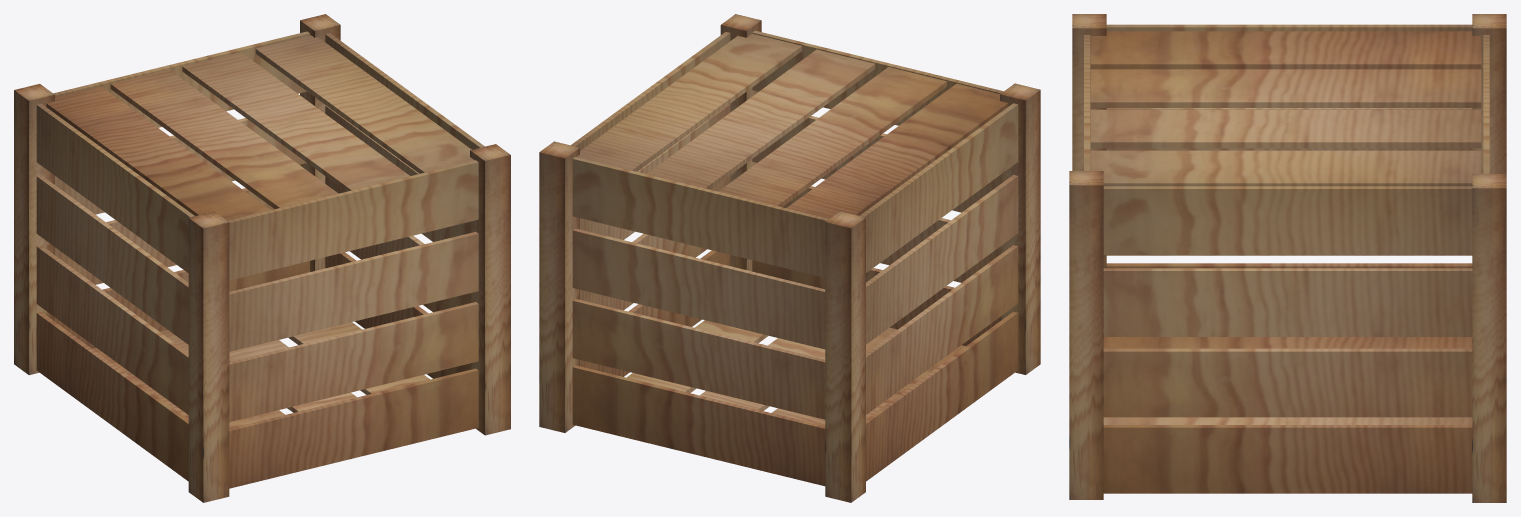
File: wooden_box.obj
The picture shows the model from 3 angles, left to right: view 1: azimuth 30°, elevation 25°; view 2: azimuth 150°, elevation 25°; view 3: azimuth 270°, elevation 25°; orthographic projection. The views are drawn at different scales.
Visible parts, largest first — view 1: Cube, Cube.004_Cube.007, Cube.001_Cube.004, Cube.007_Cube.010, Cube.006_Cube.009, Cube.009_Cube.012, Cube.003_Cube.006, Cube.002_Cube.005, Cube.005_Cube.008, Cube.008_Cube.011; view 2: Cube.003_Cube.006, Cube.004_Cube.007, Cube.001_Cube.004, Cube.009_Cube.012, Cube.008_Cube.011, Cube.007_Cube.010, Cube, Cube.002_Cube.005, Cube.005_Cube.008, Cube.006_Cube.009; view 3: Cube.002_Cube.005, Cube.004_Cube.007, Cube.006_Cube.009, Cube.008_Cube.011, Cube.005_Cube.008, Cube.001_Cube.004, Cube.009_Cube.012, Cube.007_Cube.010, Cube.003_Cube.006, Cube.
Boxes of the visible parts, x1,y1,x2,y2 form: Cube: [227, 160, 478, 488]; Cube.004_Cube.007: [46, 35, 474, 220]; Cube.001_Cube.004: [36, 103, 194, 481]; Cube.007_Cube.010: [188, 211, 229, 502]; Cube.006_Cube.009: [470, 144, 510, 435]; Cube.009_Cube.012: [14, 84, 54, 375]; Cube.003_Cube.006: [53, 31, 309, 348]; Cube.002_Cube.005: [325, 33, 484, 378]; Cube.005_Cube.008: [92, 322, 430, 428]; Cube.008_Cube.011: [300, 14, 340, 271]; Cube.003_Cube.006: [572, 157, 828, 486]; Cube.004_Cube.007: [577, 33, 1008, 218]; Cube.001_Cube.004: [860, 103, 1018, 481]; Cube.009_Cube.012: [825, 211, 865, 502]; Cube.008_Cube.011: [539, 141, 579, 432]; Cube.007_Cube.010: [1000, 83, 1040, 374]; Cube: [752, 30, 1003, 345]; Cube.002_Cube.005: [571, 32, 730, 376]; Cube.005_Cube.008: [627, 320, 965, 425]; Cube.006_Cube.009: [720, 14, 761, 271]; Cube.002_Cube.005: [1103, 186, 1472, 493]; Cube.004_Cube.007: [1090, 31, 1481, 186]; Cube.006_Cube.009: [1069, 171, 1103, 499]; Cube.008_Cube.011: [1472, 174, 1506, 502]; Cube.005_Cube.008: [1103, 337, 1472, 424]; Cube.001_Cube.004: [1106, 24, 1472, 268]; Cube.009_Cube.012: [1472, 14, 1506, 173]; Cube.007_Cube.010: [1072, 14, 1106, 268]; Cube.003_Cube.006: [1483, 35, 1489, 173]; Cube: [1084, 35, 1090, 170].
Bounding box in the file's own units: 2.4 × 2.02 × 2.54.
